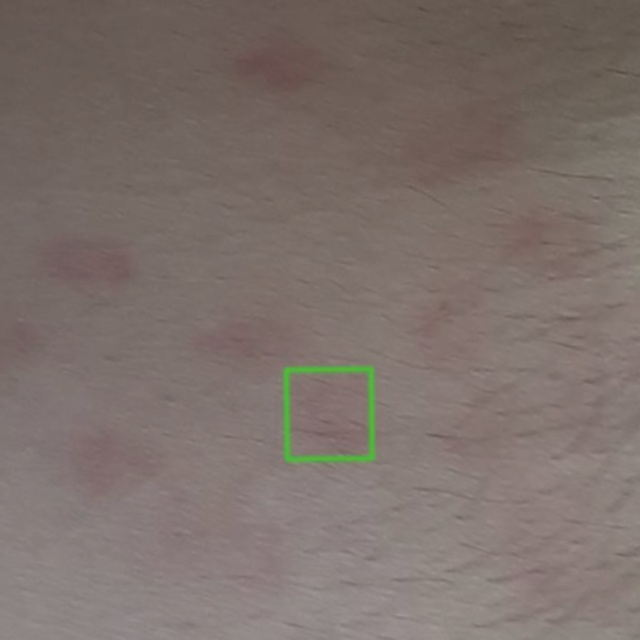Tinea Corporis: (286, 368, 372, 459)
